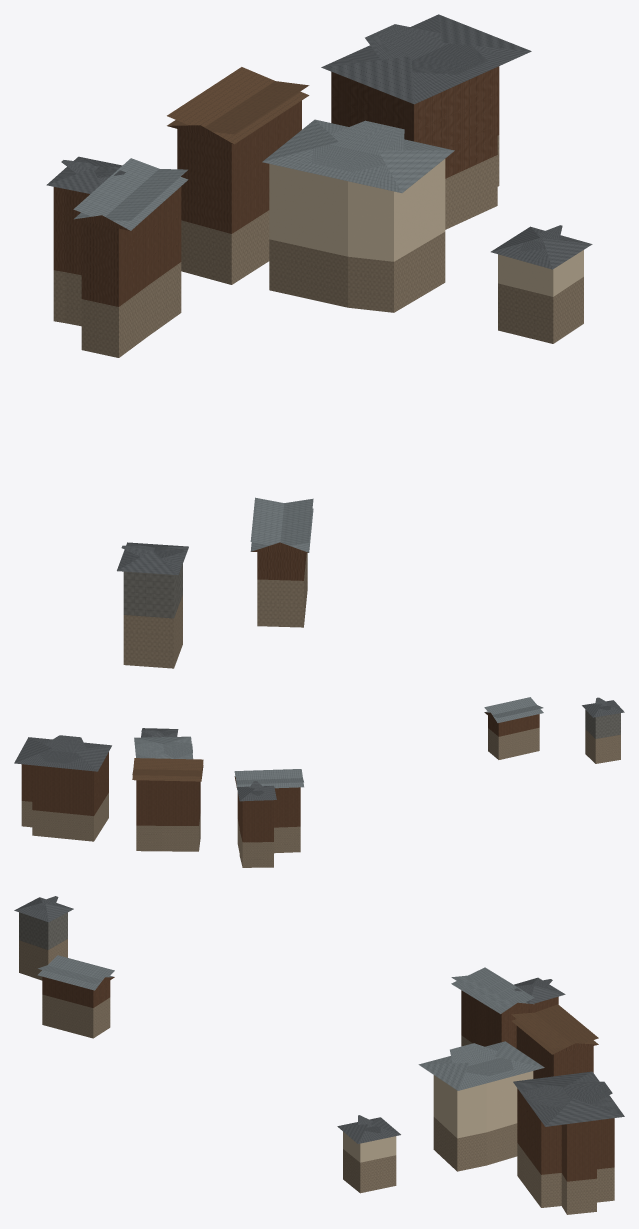
The model's file is bld_c10_18_432.gltf.
The picture shows the model from 3 angles, top to bottom: view 1: azimuth 30°, elevation 25°; view 2: azimuth 150°, elevation 25°; view 3: azimuth 270°, elevation 25°; orthographic projection. The views are drawn at different scales.
Visible parts, largest first — view 1: bld_c10_18_432; view 2: bld_c10_18_432; view 3: bld_c10_18_432.
Boxes of the visible parts, x1,y1,x2,y2 form: bld_c10_18_432: (46, 14, 592, 668); bld_c10_18_432: (14, 697, 624, 867); bld_c10_18_432: (14, 896, 624, 1214).
Size of the model in its own units: 84.1 by 16.2 by 85.07.
Materials: 8 (8 with a texture image).
